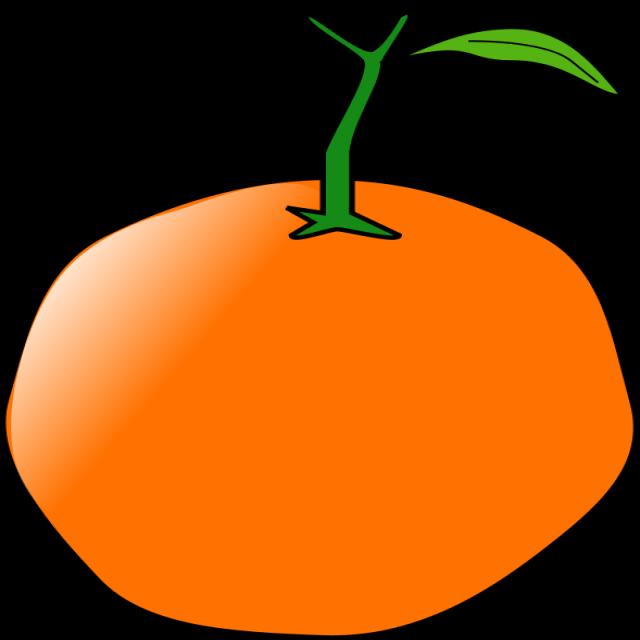orange: (9, 91, 640, 640)
